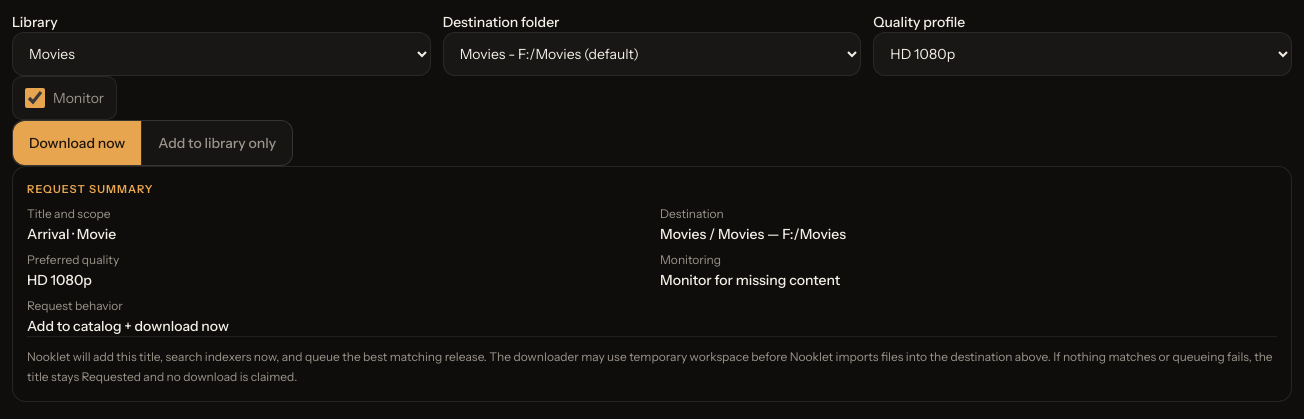
Test: TitleRequestControls › keeps the request summary current as the download behavior changes
Expected: the text "Arrival · Movie" is shown, [27, 224, 116, 242]
Expected: the text "Add to catalog + download now" is shown, [27, 316, 229, 334]
Click the radio button labelled "Add to library only" at (217, 143), box [141, 121, 292, 165]
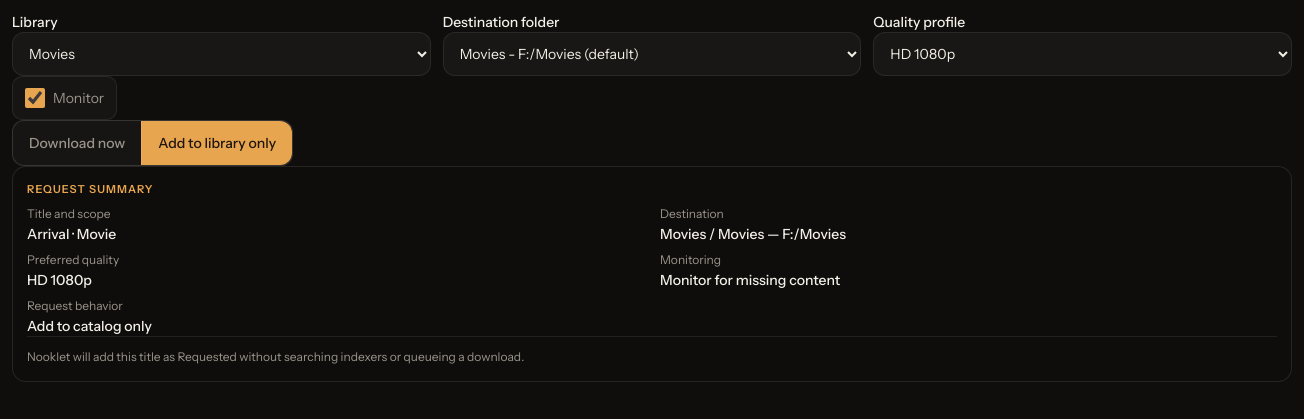
Now the text "Add to catalog only" is shown, box [27, 316, 152, 334]
Now the text "without searching indexers or queueing a download" is shown, box [27, 348, 524, 364]
